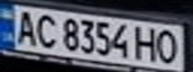3: (75, 17, 96, 55)
4: (109, 20, 133, 60)
5: (93, 19, 115, 56)
8: (57, 15, 81, 52)
A: (12, 7, 39, 46)
C: (33, 11, 60, 48)
H: (133, 25, 160, 62)
O: (154, 27, 184, 65)
